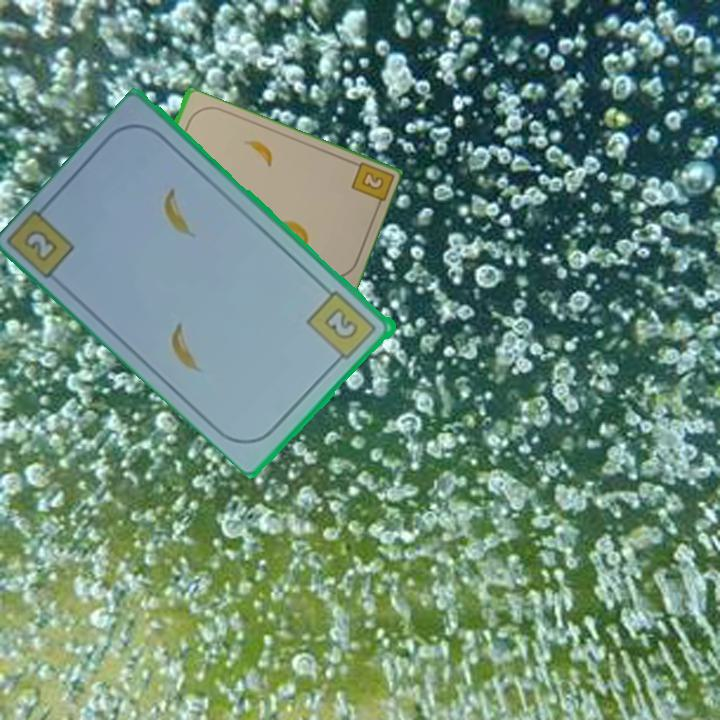2b: (304, 287, 380, 367), (24, 229, 58, 262), (357, 168, 387, 193)
